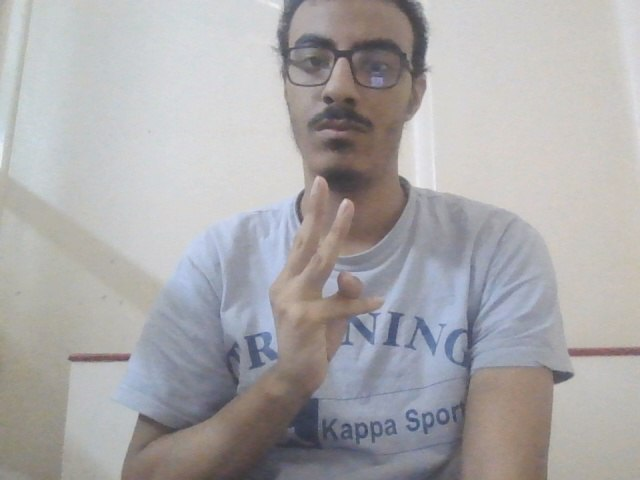Water: (265, 174, 388, 388)
